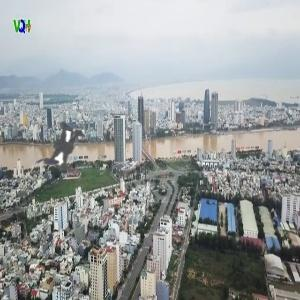drone: (8, 87, 126, 205)
